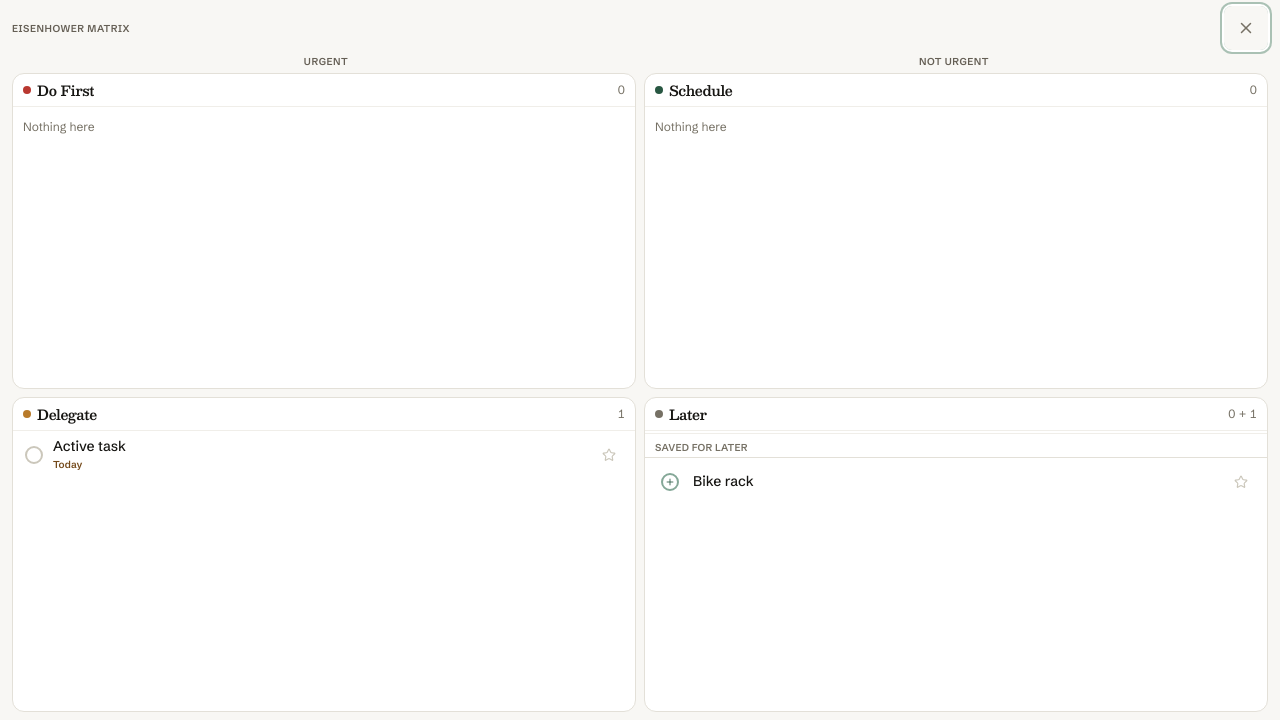
Test case: ToDosPage — Saved for later section › parked-row affordances › the edit drawer › never exposes the placeholder date as an editable field
Click the button with aria-label "Edit task: Bike rack" at (723, 481), box [693,472,1217,491]
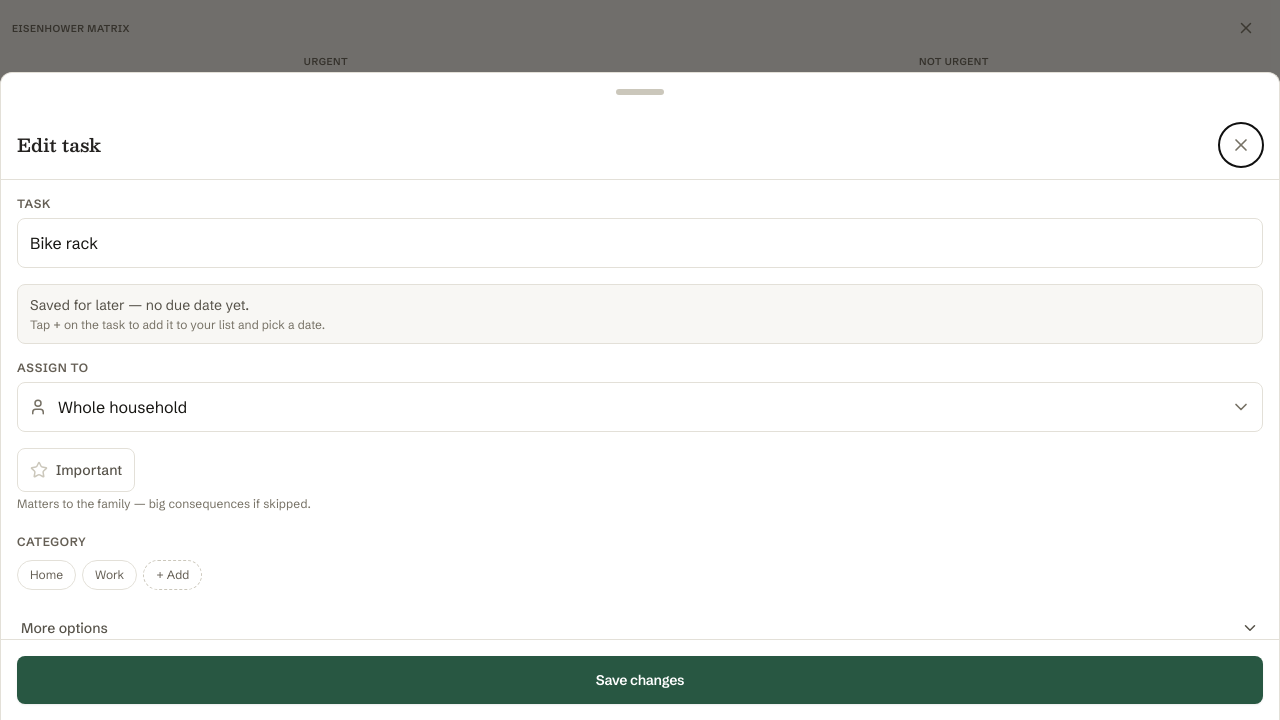
Expected: the text "Saved for later — no due date yet." is shown, [30,296,249,314]
